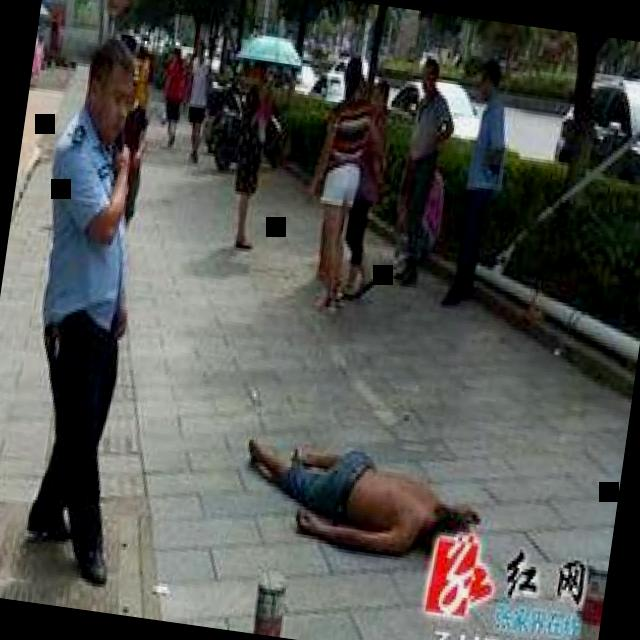Fall-Detected: (219, 398, 489, 577)
